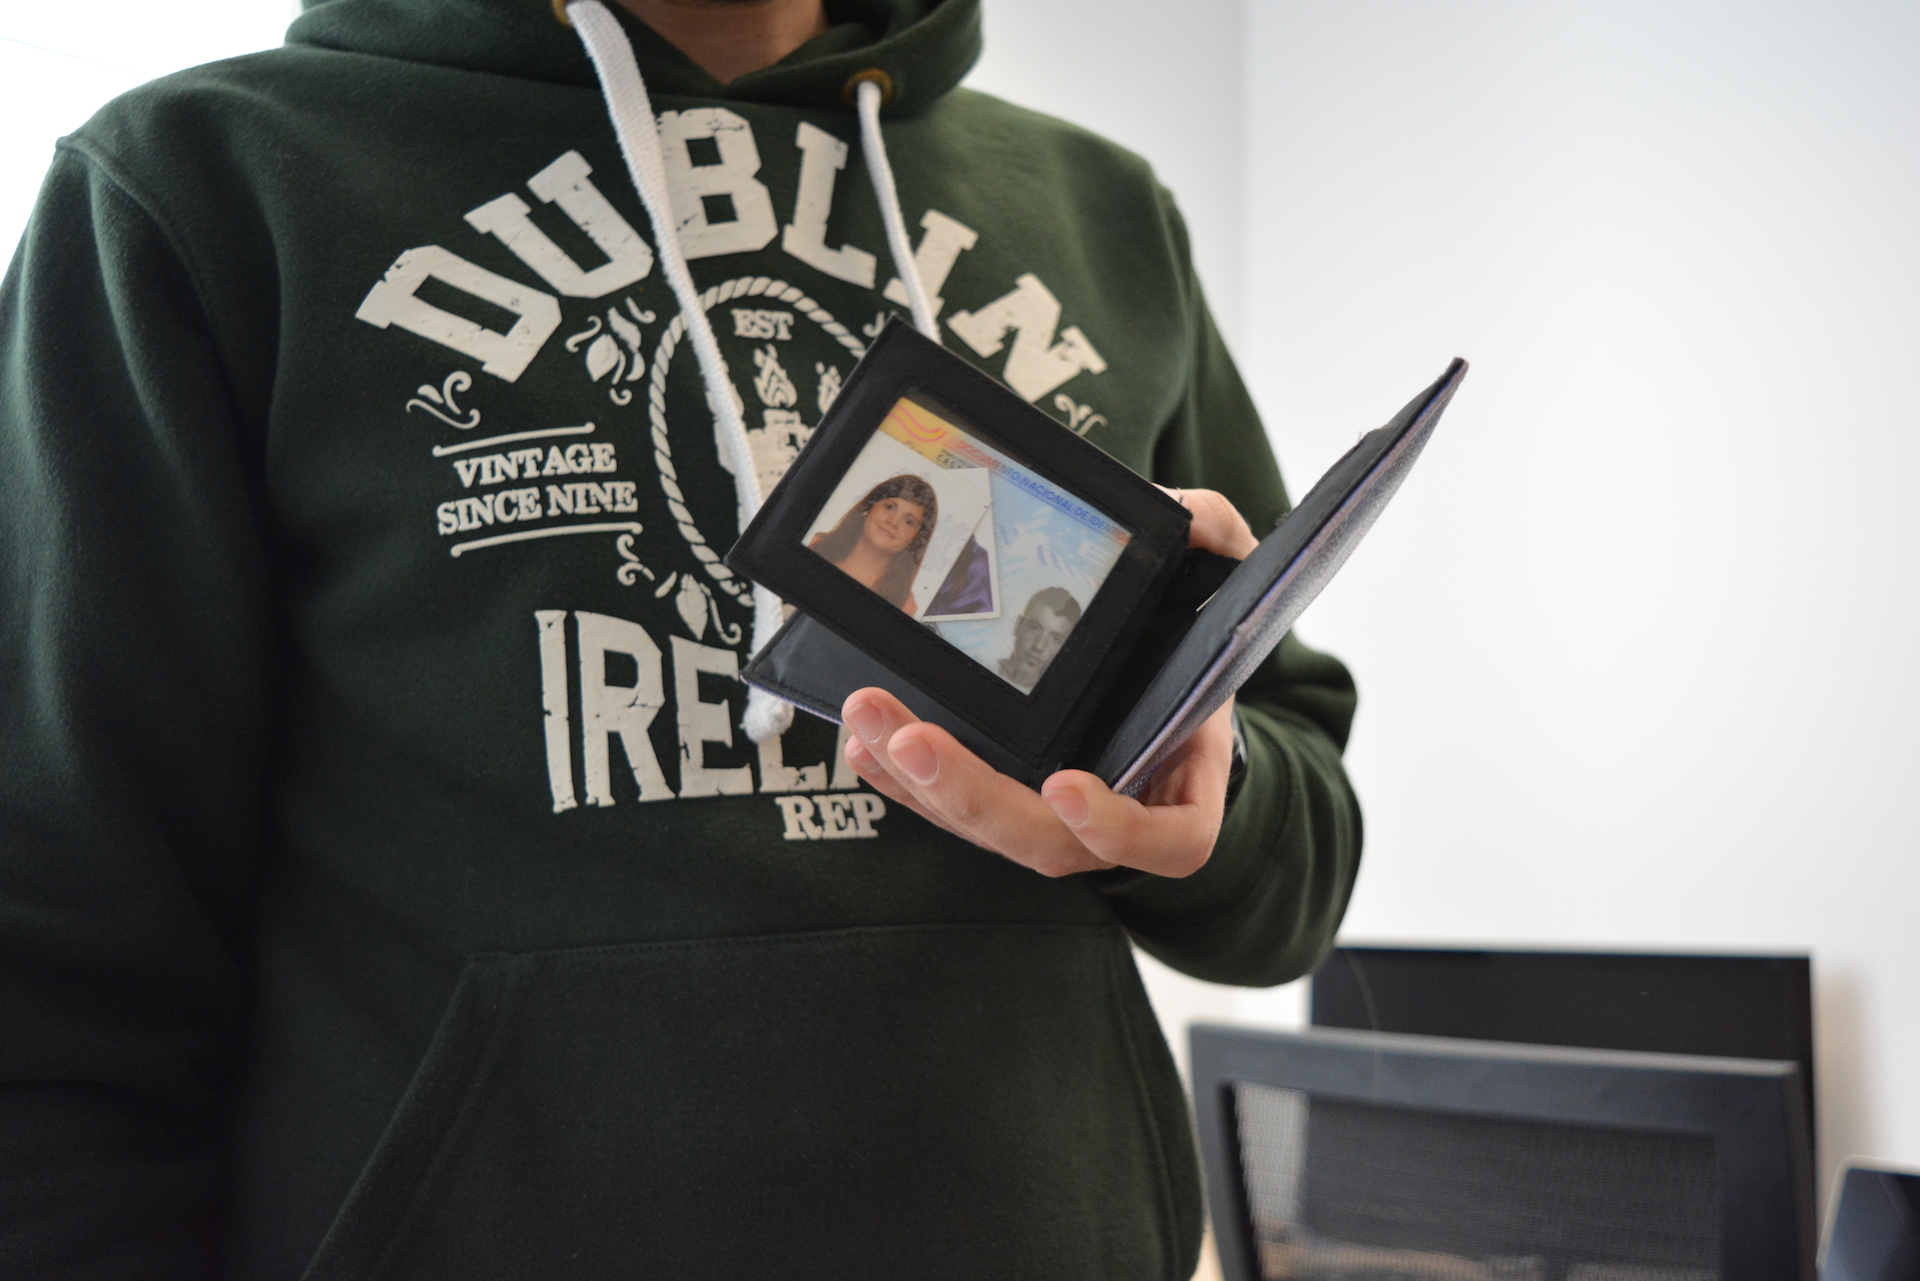monedero: (718, 309, 1473, 806)
